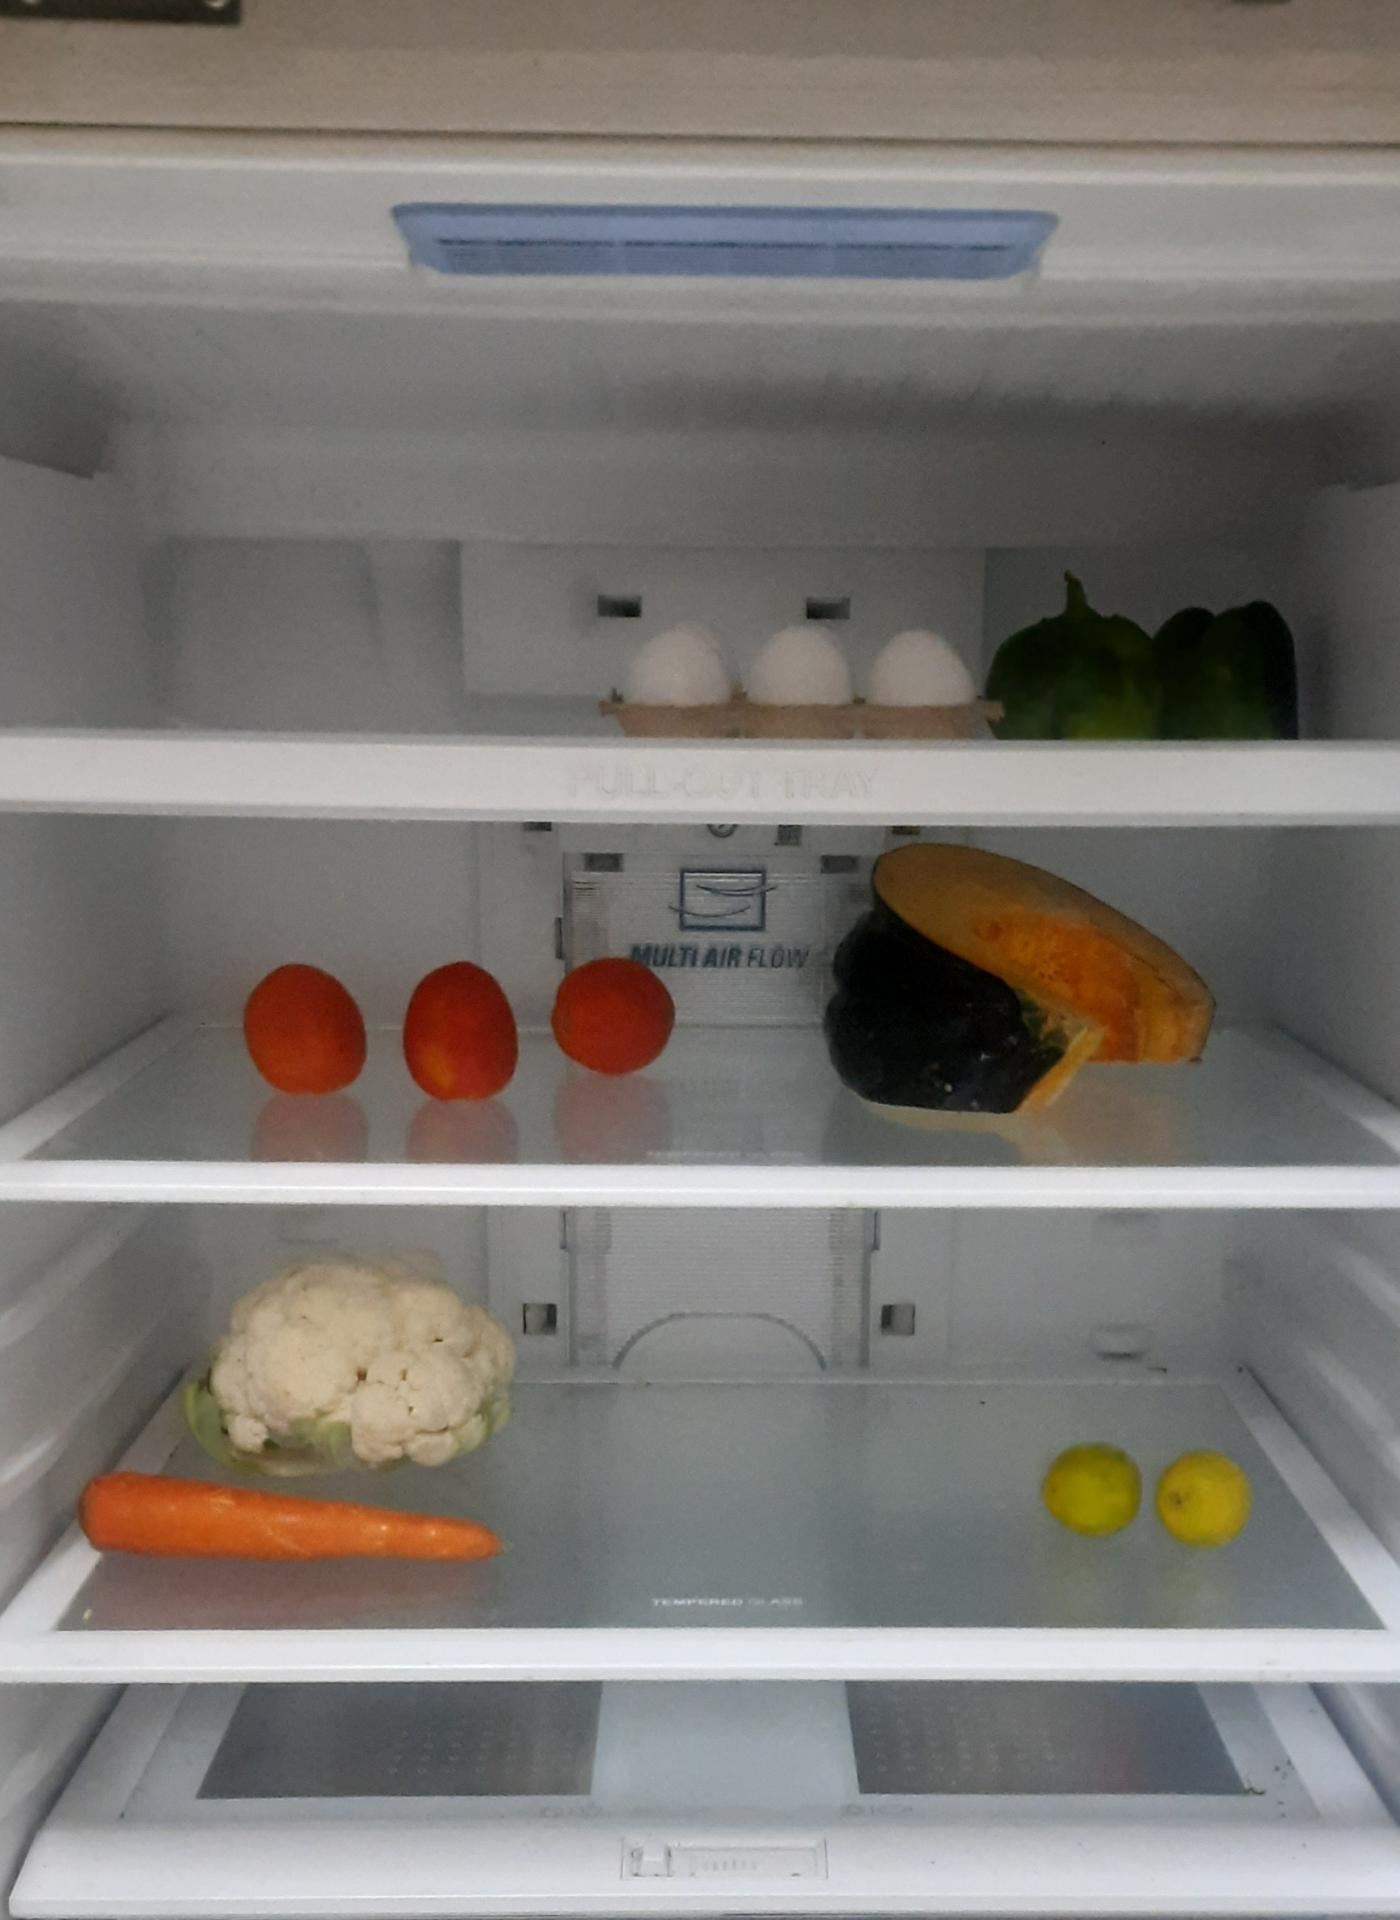capsicum: (987, 592, 1309, 739)
carrots: (83, 1471, 508, 1561)
cauliflower: (195, 1263, 522, 1474)
egg: (745, 622, 983, 719)
lemon: (1038, 1436, 1144, 1537), (1151, 1446, 1254, 1549)
pumpkin: (827, 826, 1235, 1124)
tomato: (242, 963, 371, 1102), (401, 963, 522, 1109), (550, 959, 678, 1081)
